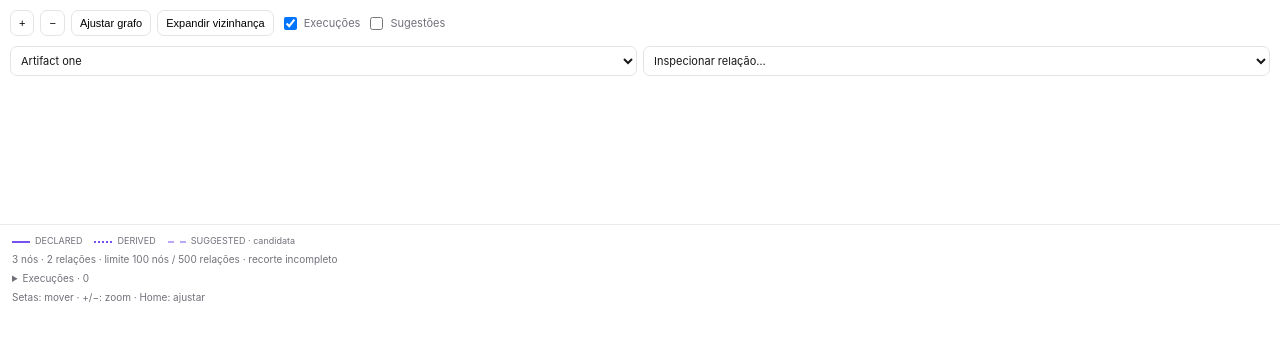
Test: expands one hop with revision guards and explains extra nodes outside the initial filters
Click the button "Expandir vizinhança". click: (216, 23)
box: 157,10 -> 274,36
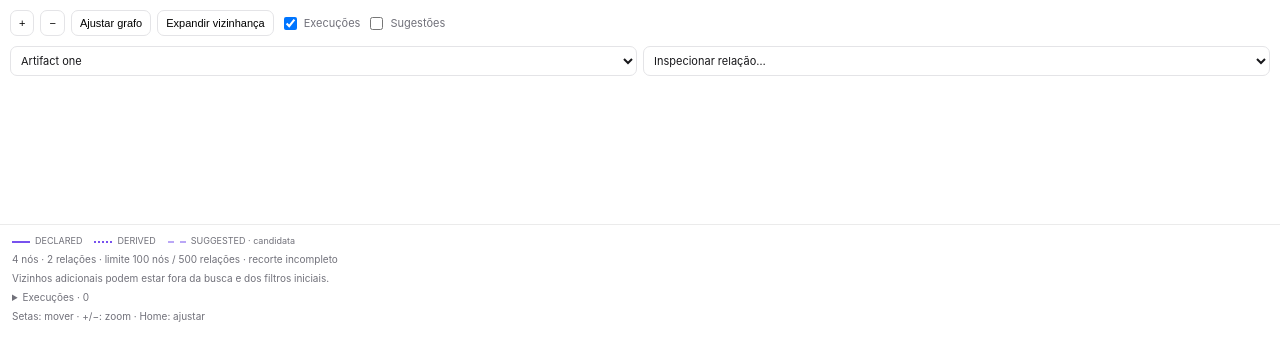
expect the text "fora da busca" is shown: met, box 12,272 -> 329,284
